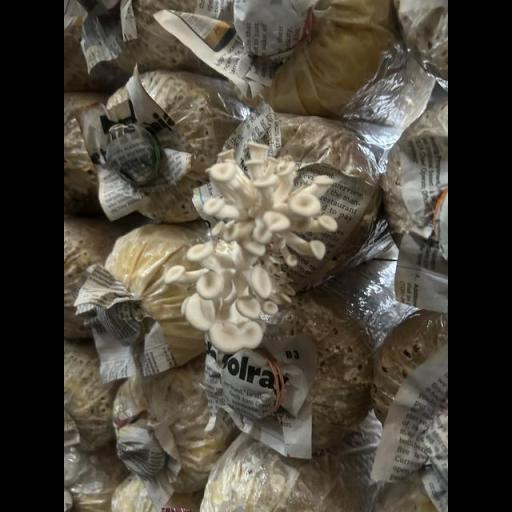White Oyster Mushroom: (146, 128, 348, 363)
